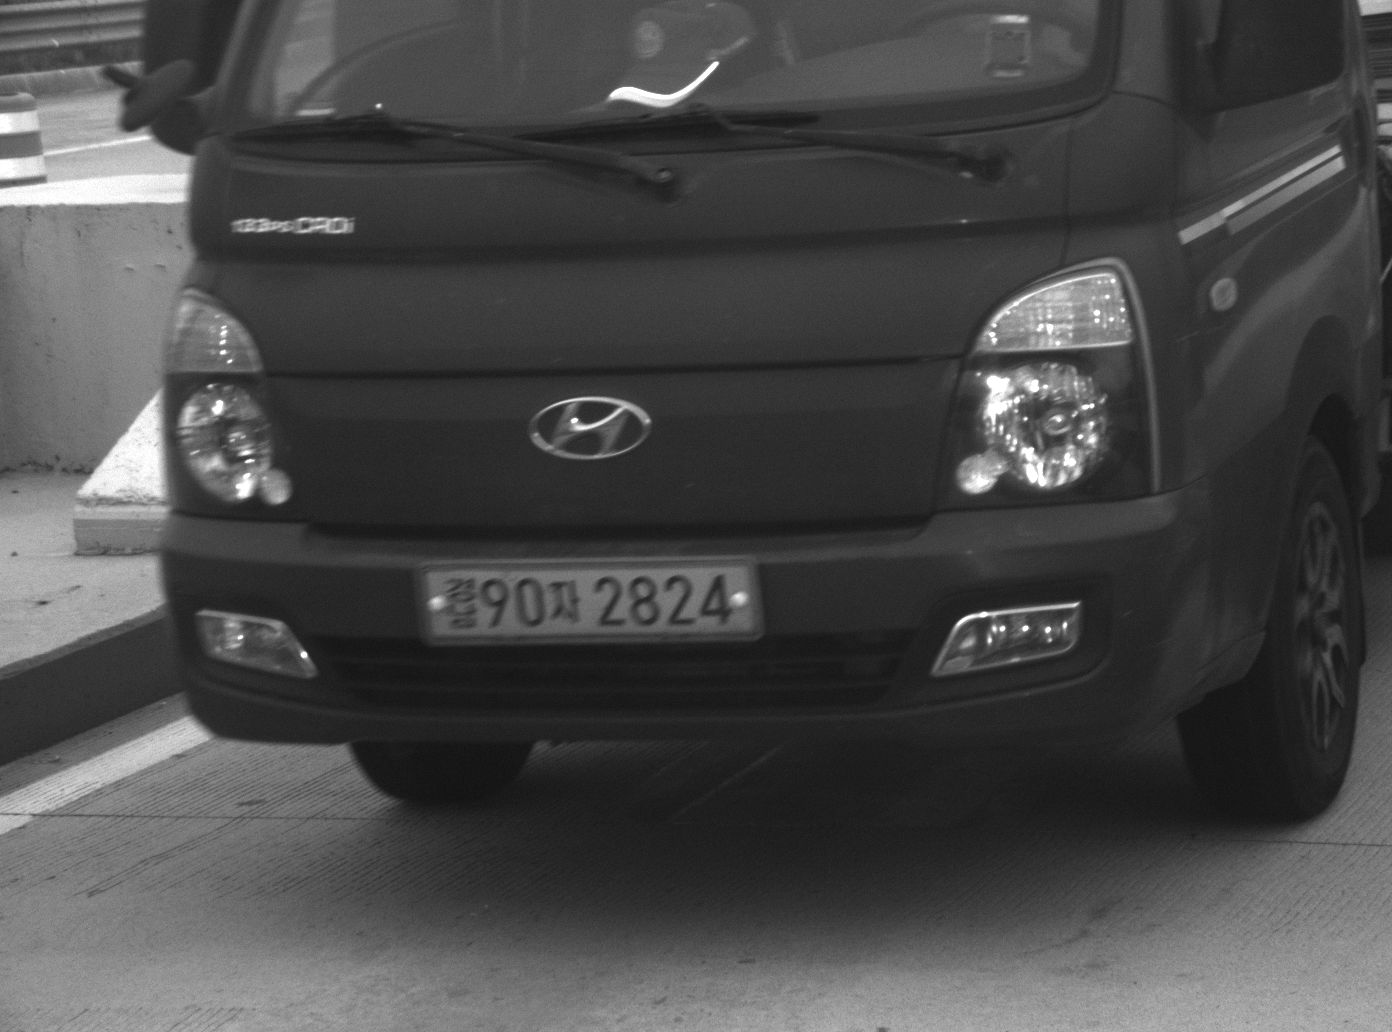car: (81, 1, 1390, 830)
plate: (413, 551, 768, 642)
